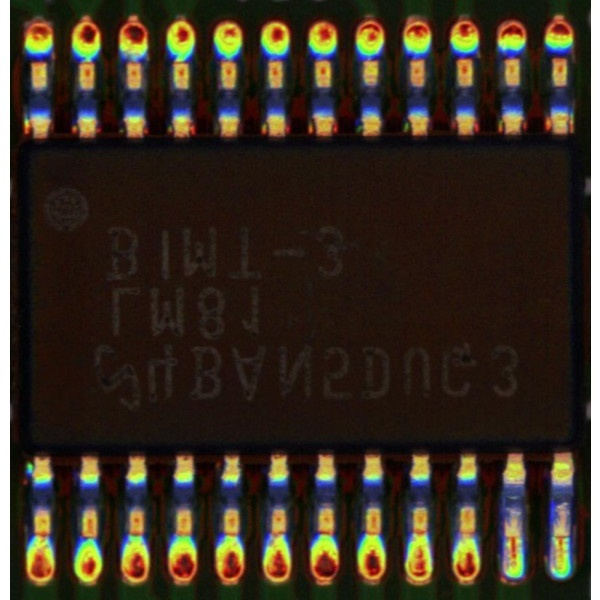Bad_podu: (554, 530, 569, 550), (507, 527, 520, 550)
